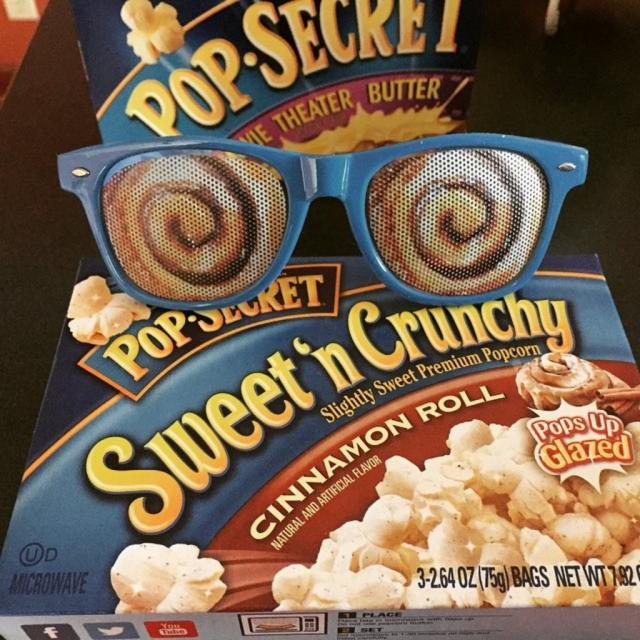Popcorn: (264, 414, 639, 613), (108, 541, 230, 616), (66, 274, 152, 343), (119, 0, 186, 67)
